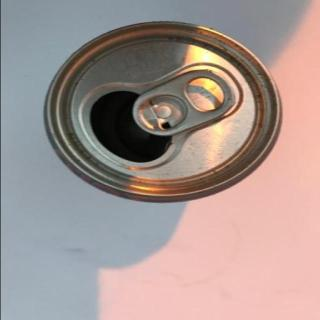Anorganik: (42, 20, 296, 203)
